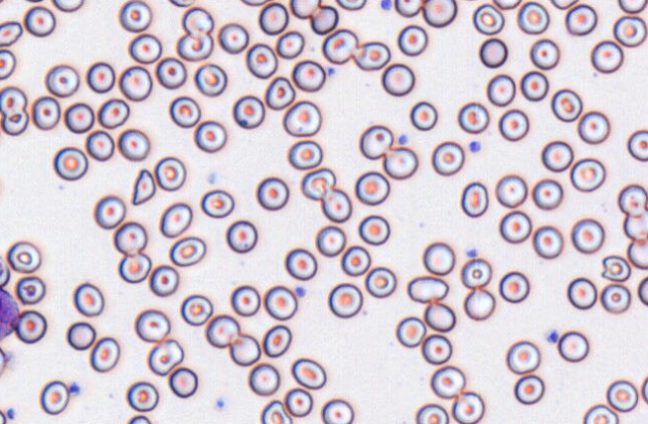PLT: (67, 381, 82, 398), (377, 0, 395, 13), (212, 396, 228, 410), (545, 328, 559, 343), (398, 133, 411, 147), (468, 140, 482, 152), (294, 287, 308, 299), (464, 247, 477, 259), (6, 407, 18, 419)
RBC: (282, 100, 321, 137), (147, 338, 184, 376), (321, 28, 358, 64), (327, 282, 363, 318), (354, 170, 390, 205), (53, 146, 88, 181), (570, 157, 605, 192), (134, 308, 170, 342), (205, 314, 240, 348), (113, 221, 147, 256), (359, 124, 393, 159), (505, 340, 540, 374), (263, 285, 297, 320), (300, 167, 336, 200), (382, 146, 418, 179), (119, 65, 152, 101), (571, 217, 604, 253), (406, 275, 448, 303), (45, 63, 79, 97), (430, 365, 465, 398), (6, 240, 41, 273), (159, 202, 192, 237), (431, 140, 464, 175), (232, 94, 265, 129), (320, 186, 352, 222), (290, 357, 326, 389), (245, 42, 277, 78), (353, 40, 390, 71), (169, 235, 206, 266), (228, 332, 261, 366), (14, 309, 47, 343), (422, 241, 455, 275), (93, 195, 126, 229), (291, 59, 325, 92), (381, 62, 414, 96), (256, 176, 289, 210), (590, 39, 623, 73), (577, 110, 610, 144), (154, 156, 186, 191), (89, 336, 120, 372), (451, 390, 484, 423), (194, 63, 227, 96), (516, 1, 549, 34), (193, 119, 226, 152), (284, 247, 317, 280), (117, 128, 150, 161), (463, 287, 495, 321), (248, 362, 280, 396), (118, 0, 152, 32), (72, 282, 104, 316), (225, 219, 257, 253), (613, 15, 647, 47), (495, 174, 527, 208), (264, 75, 295, 110), (177, 31, 213, 61), (39, 379, 69, 415), (126, 380, 159, 412), (23, 5, 56, 37), (180, 294, 213, 326), (606, 379, 638, 412), (499, 210, 531, 243), (155, 56, 187, 89), (128, 33, 162, 64), (258, 1, 289, 35), (551, 88, 582, 122), (532, 225, 563, 259), (287, 139, 322, 169), (472, 3, 504, 35), (217, 22, 249, 54), (364, 266, 396, 298), (557, 330, 589, 362), (565, 3, 597, 35), (541, 140, 573, 172), (457, 101, 489, 133), (169, 95, 201, 127), (423, 301, 456, 332), (118, 252, 151, 283), (498, 270, 529, 303), (566, 276, 597, 309), (498, 108, 529, 141), (31, 95, 60, 130), (460, 181, 488, 217), (460, 257, 492, 288), (395, 315, 426, 347), (532, 178, 563, 210), (97, 98, 129, 129), (358, 214, 390, 245), (181, 6, 214, 36), (617, 183, 647, 216), (262, 324, 292, 357), (200, 189, 234, 218), (421, 333, 452, 364), (315, 225, 346, 256), (63, 102, 94, 133), (340, 245, 371, 276), (168, 366, 198, 398), (149, 264, 179, 296), (230, 284, 260, 316), (397, 24, 427, 56), (529, 38, 559, 70), (486, 73, 515, 106), (422, 0, 457, 27), (513, 374, 544, 404), (600, 283, 631, 313), (85, 129, 114, 161), (86, 61, 115, 93), (283, 387, 313, 417), (309, 4, 338, 35), (478, 37, 507, 68), (66, 321, 96, 350), (15, 275, 45, 304), (520, 70, 548, 101), (320, 398, 354, 423), (409, 100, 437, 130), (0, 85, 27, 116), (275, 30, 304, 58), (623, 210, 648, 242), (260, 399, 292, 424), (582, 403, 618, 424), (1, 109, 29, 135), (415, 403, 449, 423), (627, 129, 648, 161), (627, 238, 648, 269), (0, 20, 23, 47), (289, 0, 320, 19), (0, 48, 16, 80), (394, 0, 422, 17), (51, 0, 84, 12), (617, 0, 647, 13), (637, 275, 648, 306), (0, 254, 10, 288), (335, 0, 366, 10), (549, 0, 579, 9), (492, 0, 521, 9), (126, 414, 152, 424), (641, 373, 648, 404), (0, 346, 7, 376), (167, 0, 196, 7), (238, 0, 271, 6), (0, 172, 4, 201), (644, 187, 648, 213), (0, 409, 6, 424), (22, 0, 45, 3), (458, 0, 484, 1)
Schistocyte: (602, 255, 633, 281), (133, 169, 154, 205)
